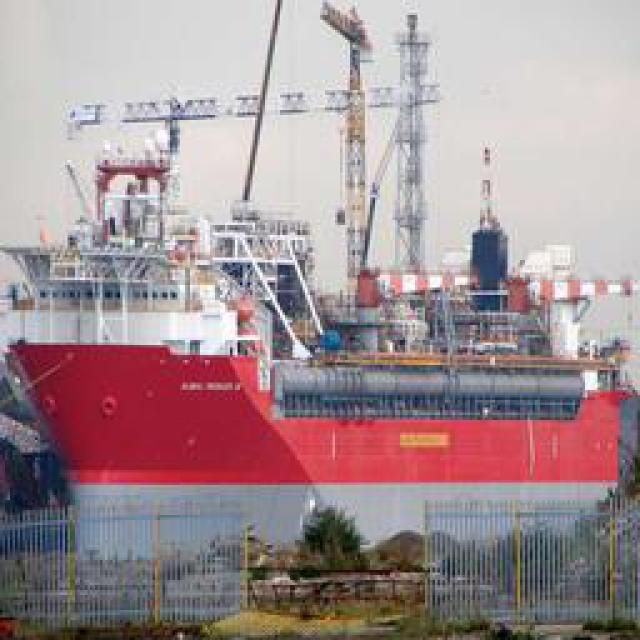Ship: (12, 1, 635, 640)
